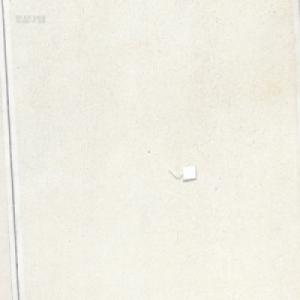LuggageTag: (167, 164, 196, 180)
